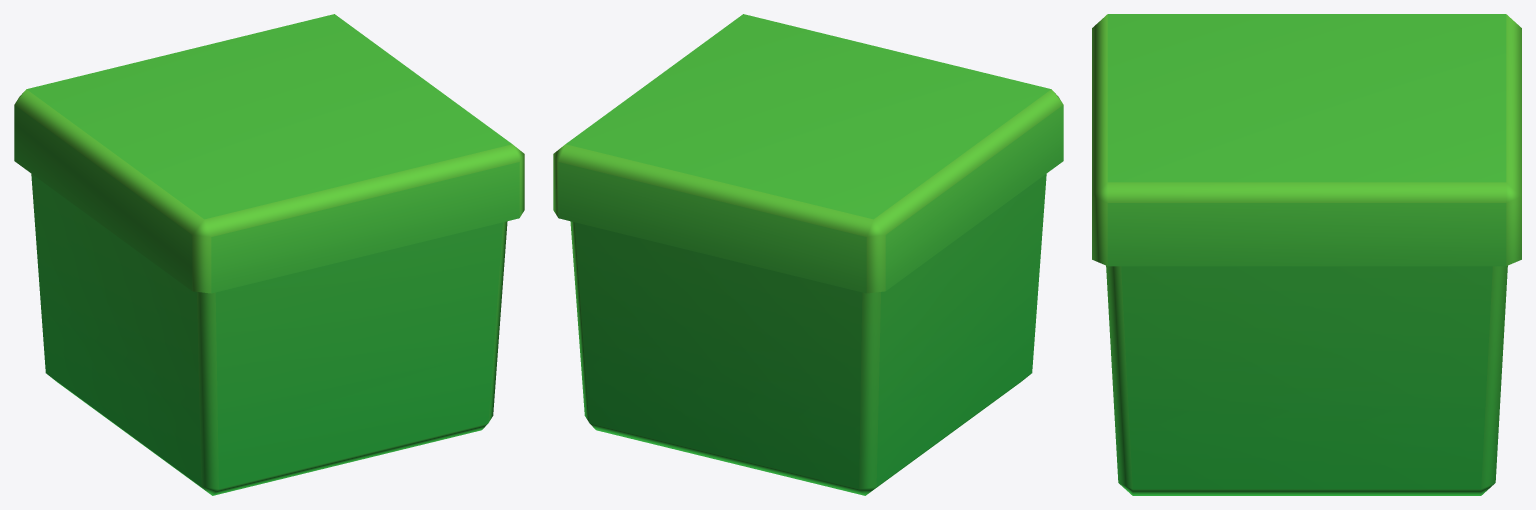
The model's file is giftbox_025.fbx.
3 renders of one model, left to right at view 1: azimuth 30°, elevation 25°; view 2: azimuth 150°, elevation 25°; view 3: azimuth 270°, elevation 25°, orthographic. The views are drawn at different scales.
Visible parts, largest first — view 1: giftbox_025; view 2: giftbox_025; view 3: giftbox_025.
Part boxes in pixels (left/top/right/bottom): giftbox_025: left=14, top=14, right=524, bottom=495; giftbox_025: left=553, top=14, right=1063, bottom=495; giftbox_025: left=1092, top=14, right=1521, bottom=495.
Size of the model in its own units: 192 by 192 by 160.
